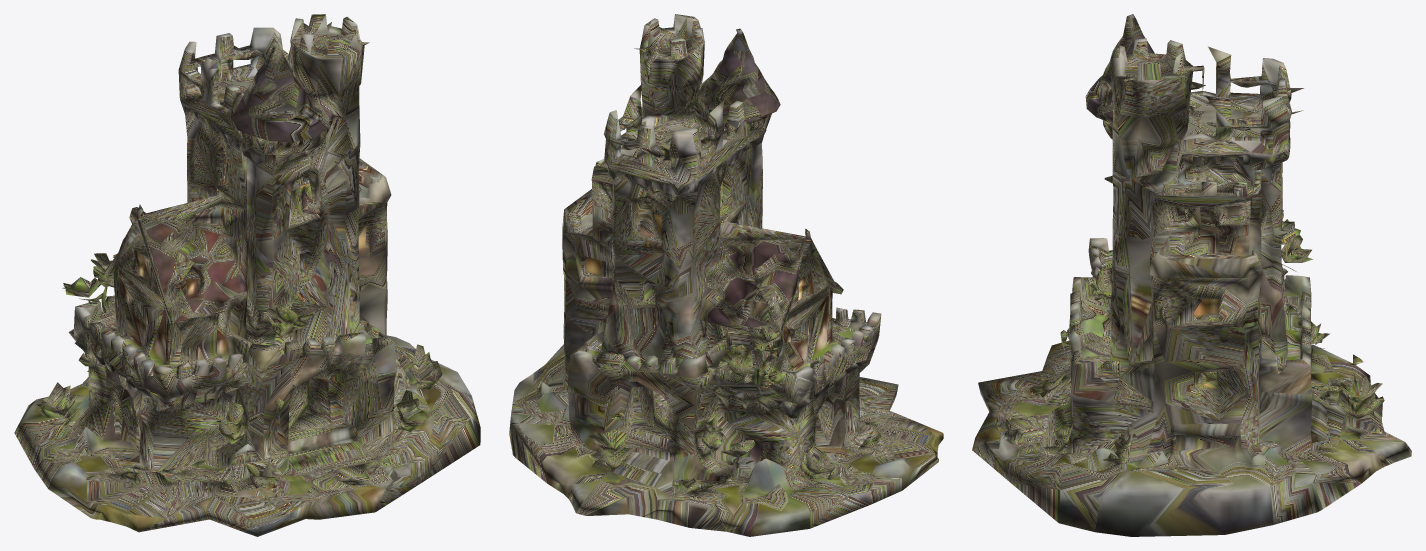
File: Emberkeep_Turret.glb
The picture shows the model from 3 angles, left to right: view 1: azimuth 30°, elevation 25°; view 2: azimuth 150°, elevation 25°; view 3: azimuth 270°, elevation 25°; orthographic projection. The views are drawn at different scales.
Parts seen in each view (by area): view 1: Emberkeep_Turret; view 2: Emberkeep_Turret; view 3: Emberkeep_Turret.
Part boxes in pixels (x1,y1,x2,y2): Emberkeep_Turret: (14, 14, 480, 536); Emberkeep_Turret: (509, 14, 943, 536); Emberkeep_Turret: (972, 14, 1411, 536).
Bounding box in the file's own units: 1.88 × 1.9 × 1.77.
Materials: 1 (1 with a texture image).
